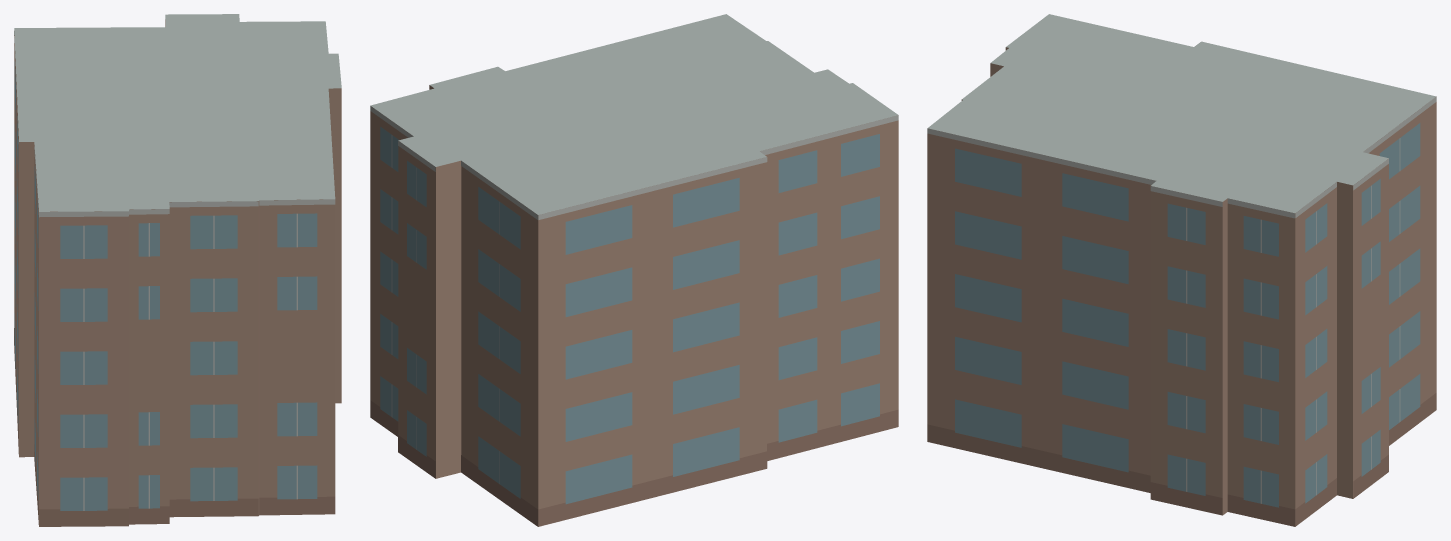
File: survey-upis-32921323.glb
3 views of the same model, side by side, from view 1: azimuth 30°, elevation 25°; view 2: azimuth 150°, elevation 25°; view 3: azimuth 270°, elevation 25° (orthographic).
Visible parts, largest first — view 1: survey-upis-32921323.tmp; view 2: survey-upis-32921323.tmp; view 3: survey-upis-32921323.tmp.
Part boxes in pixels (bbox=[...]): survey-upis-32921323.tmp: bbox=[14, 14, 341, 526]; survey-upis-32921323.tmp: bbox=[370, 14, 898, 526]; survey-upis-32921323.tmp: bbox=[927, 14, 1436, 526].
Bounding box in the file's own units: 19.84 × 14.55 × 21.41.
